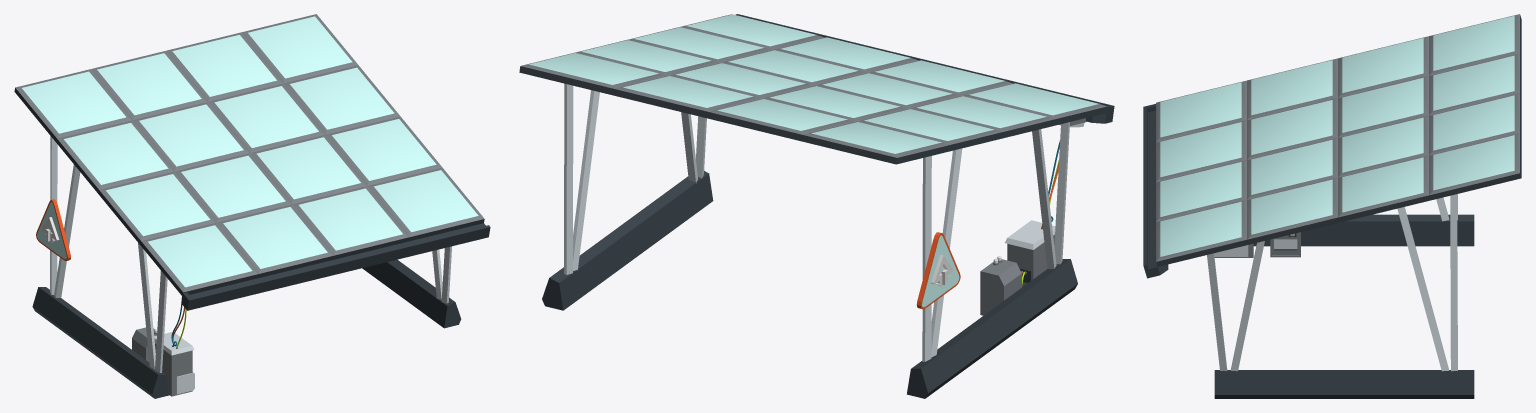
The model's file is Panel.fbx.
3 renders of one model, left to right at view 1: azimuth 30°, elevation 25°; view 2: azimuth 150°, elevation 25°; view 3: azimuth 270°, elevation 25°, orthographic. The views are drawn at different scales.
Parts seen in each view (by area): view 1: Base_Panel; view 2: Base_Panel; view 3: Base_Panel.
Boxes of the visible parts, bbox=[...] form: Base_Panel: bbox=[14, 14, 490, 398]; Base_Panel: bbox=[519, 14, 1114, 398]; Base_Panel: bbox=[1143, 14, 1521, 398].
Size of the model in its own units: 33.64 by 21.71 by 32.92.
